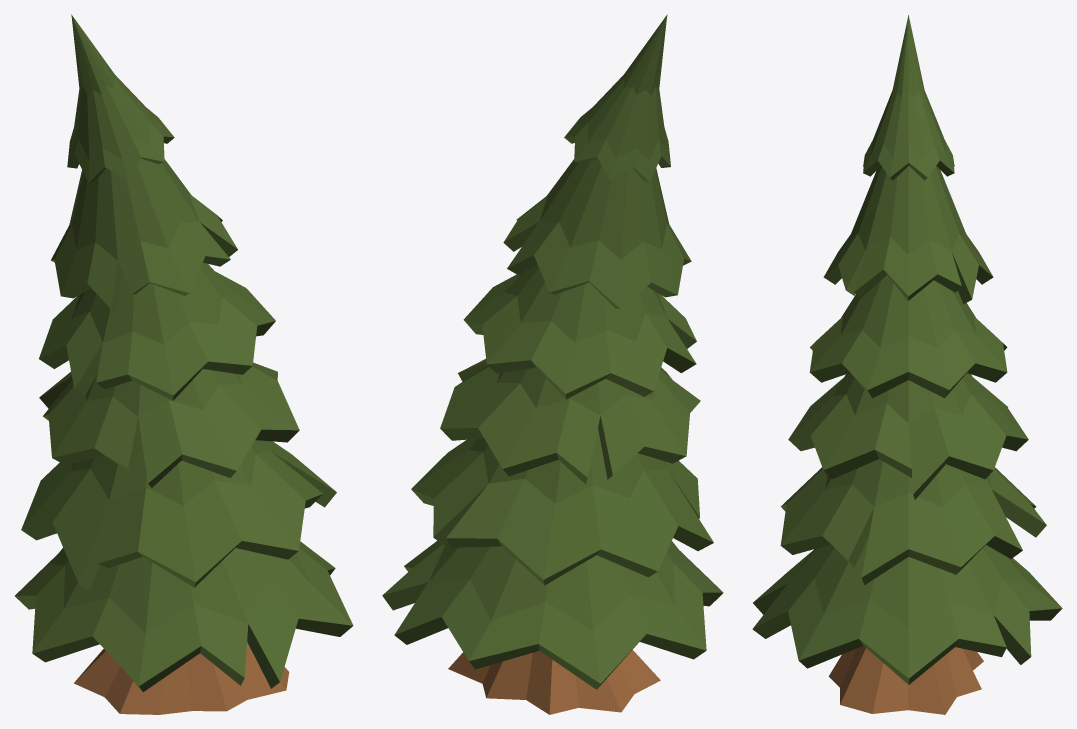
File: tree.fbx
3 views of the same model, side by side, from view 1: azimuth 30°, elevation 25°; view 2: azimuth 150°, elevation 25°; view 3: azimuth 270°, elevation 25° (orthographic). The views are drawn at different scales.
Parts seen in each view (by area): view 1: tree; view 2: tree; view 3: tree.
Part boxes in pixels (bbox=[...]): tree: bbox=[15, 14, 353, 714]; tree: bbox=[382, 14, 723, 714]; tree: bbox=[752, 15, 1062, 714].
Size of the model in its own units: 757 by 1647 by 754.
